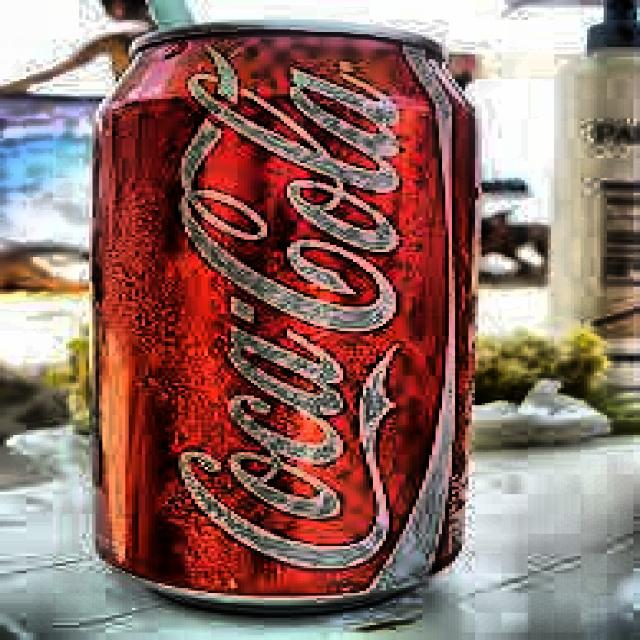Cans: (66, 15, 496, 629), (482, 179, 523, 195)
